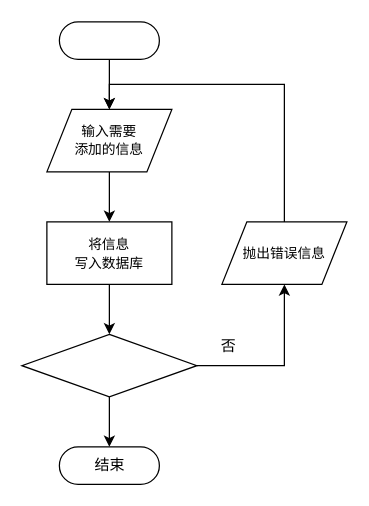
Image size: 369x506. Some labels were removed from this diagram. Here are the shapes that lost their labels. From the top down, the centre of each, then its label:
At [108,40]: "开始".
At [109,365]: "检查是否 插入成功".
